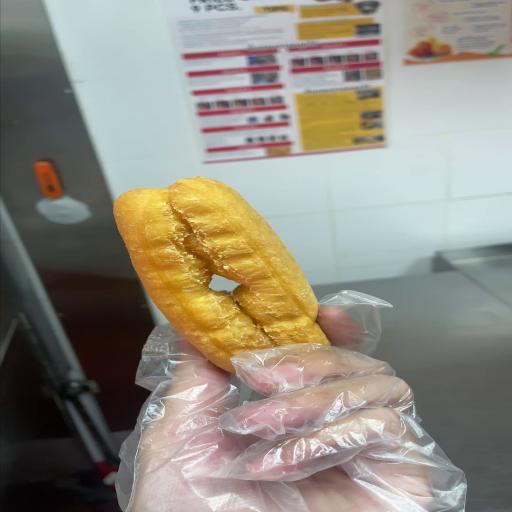brand_golden_defect: (114, 177, 329, 372)
